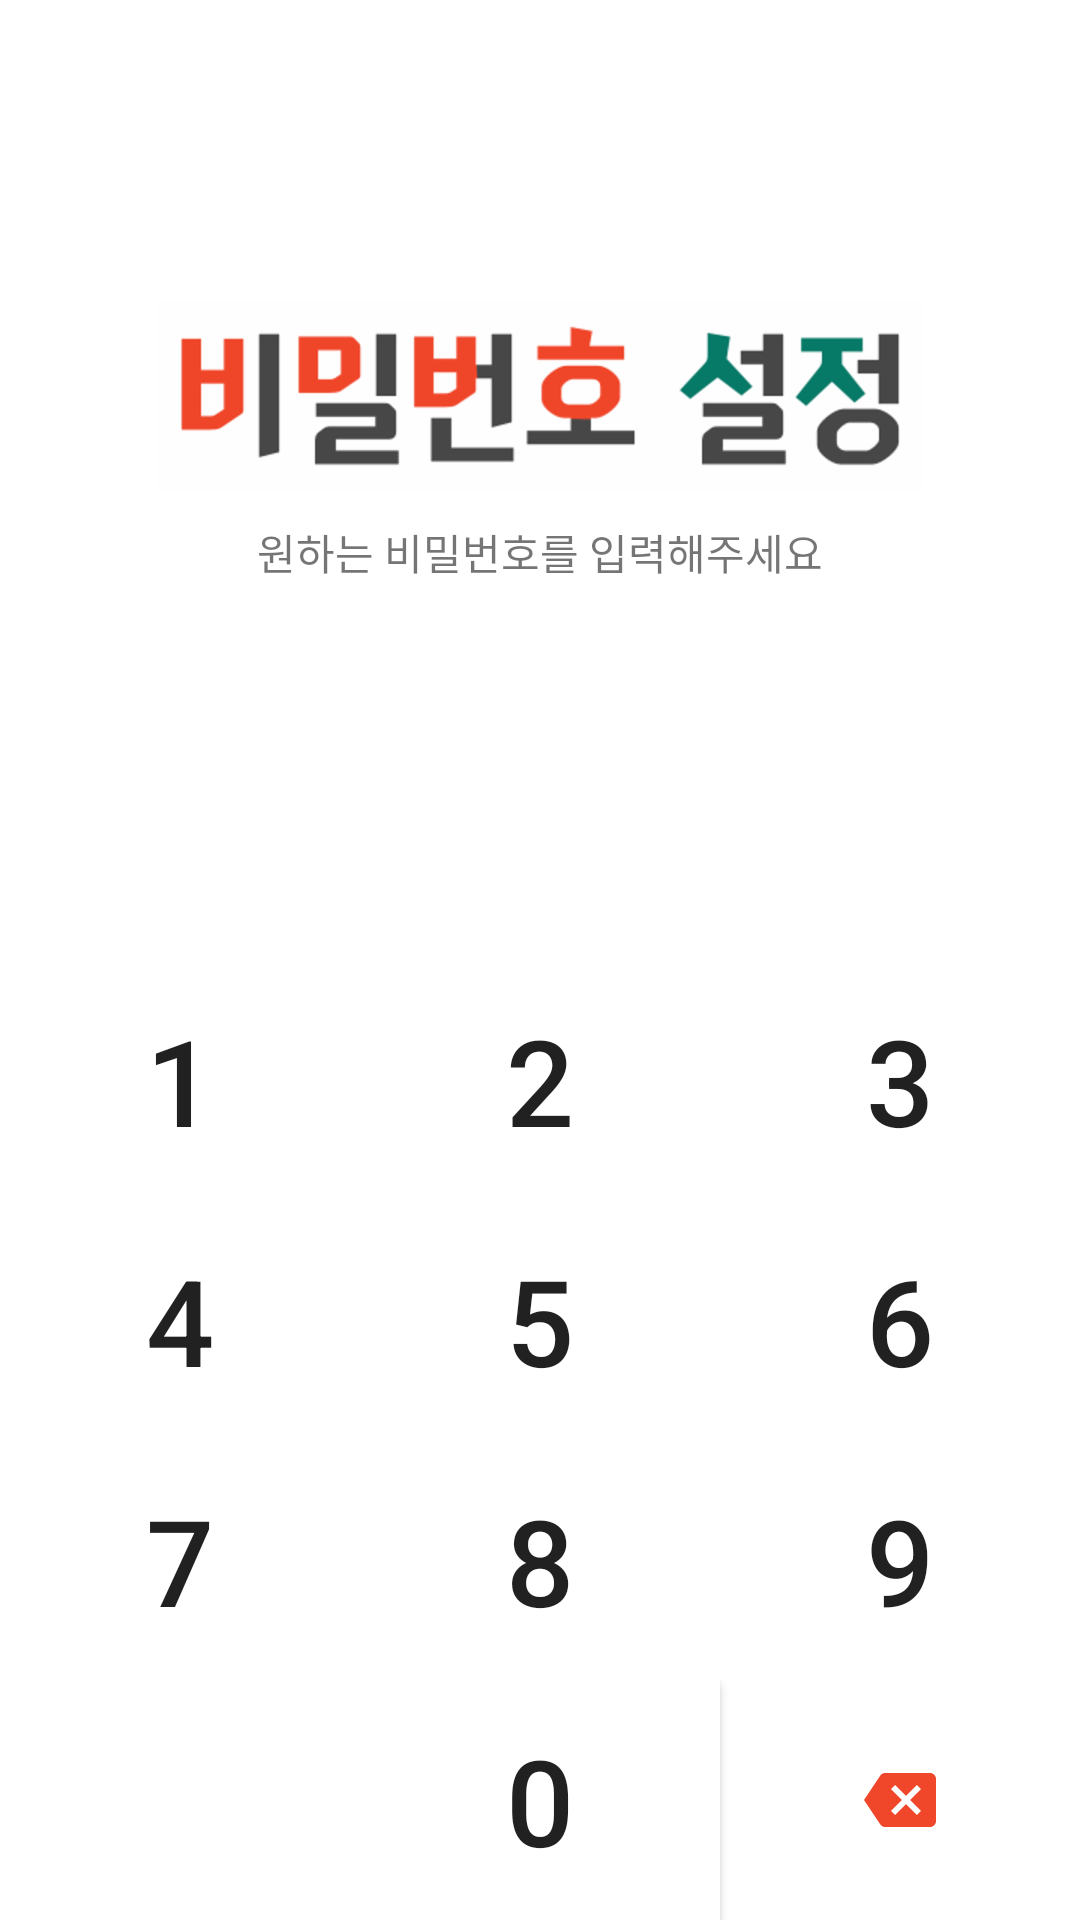

Locate icon controls on the screen. Image size 1080 × 1920, boxes as (x1, y1, x2, y2).
backspace: (864, 1773, 936, 1827)
